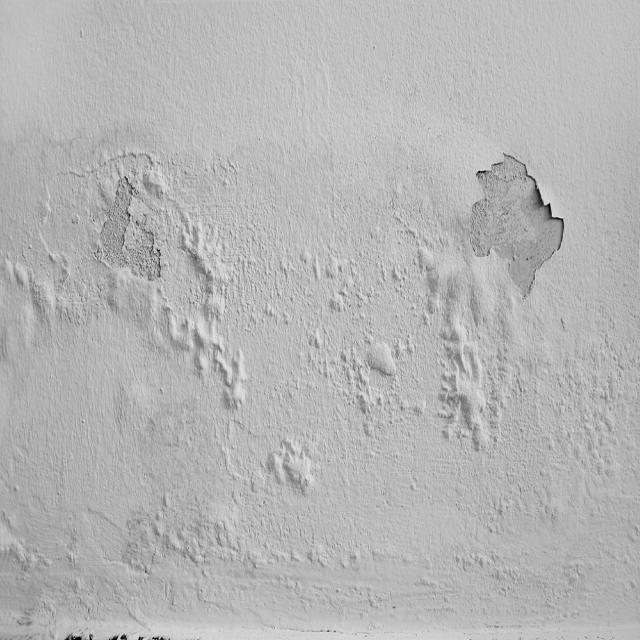peeling paint: (33, 131, 212, 338), (463, 129, 574, 317)
